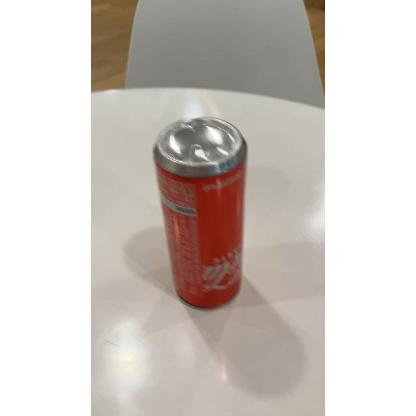Can: (151, 114, 249, 310)
